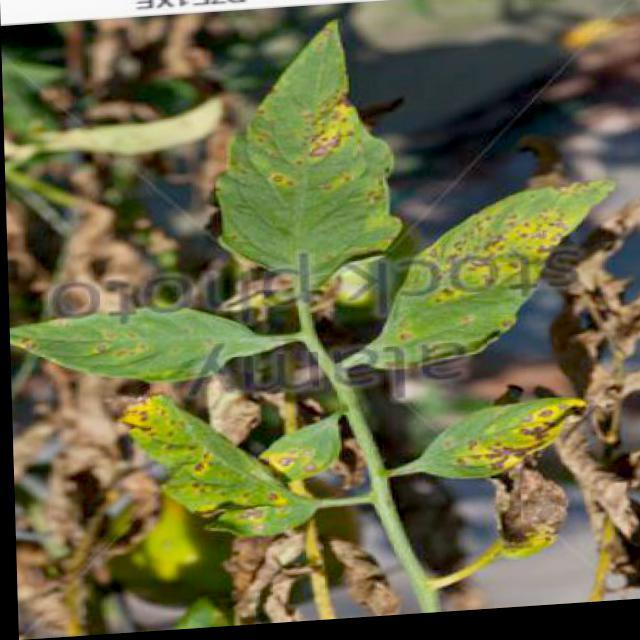Tomato Septoria spot leaf: (190, 19, 408, 310), (365, 176, 625, 386), (96, 391, 330, 561), (8, 284, 276, 404), (377, 395, 597, 497)
